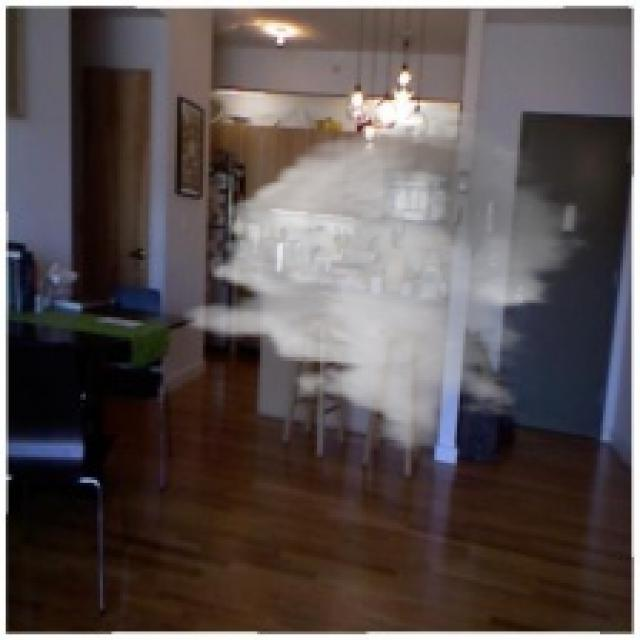smoke: (177, 97, 594, 452)
